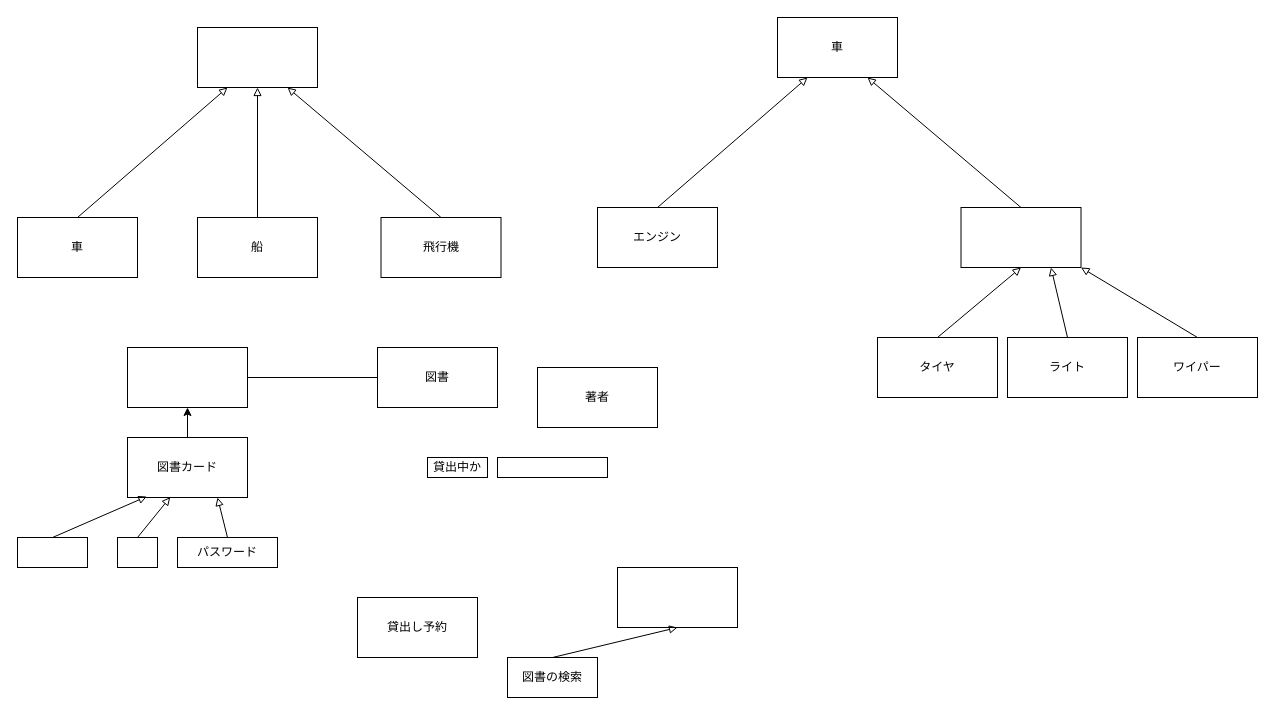
Image size: 1275x715. Some labels were removed from this diagram. Here are the shapes that lost their labels. From the top down, the box of each, then its label:
(196, 26, 318, 88): 乗り物
(960, 206, 1081, 268): ボディ
(126, 346, 248, 408): 利用者
(496, 456, 608, 478): どこの棚にあるか
(16, 536, 88, 568): 氏名
(116, 536, 158, 568): ID
(616, 566, 738, 628): 利用者用コンピューター
